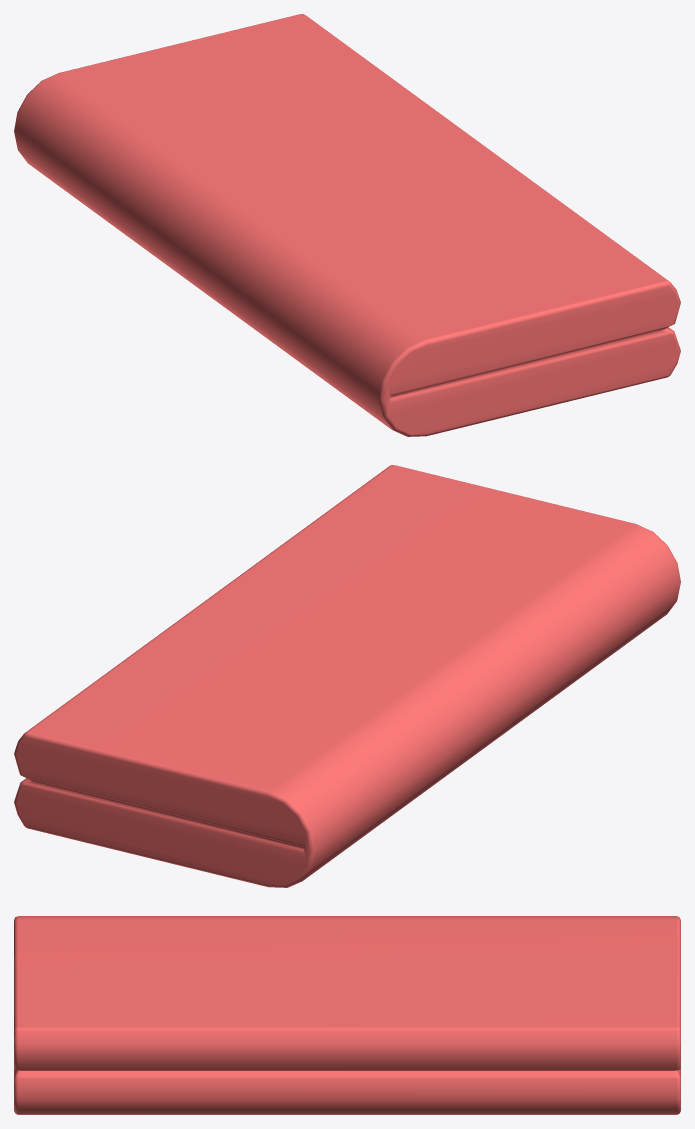
Rendered from Public_19_Fabric_6.glb.
3 views of the same model, one above another, from view 1: azimuth 30°, elevation 25°; view 2: azimuth 150°, elevation 25°; view 3: azimuth 270°, elevation 25° (orthographic). The views are drawn at different scales.
Visible parts, largest first — view 1: Public_19_Fabric_6; view 2: Public_19_Fabric_6; view 3: Public_19_Fabric_6.
Part boxes in pixels (bbox=[...]): Public_19_Fabric_6: bbox=[14, 14, 680, 436]; Public_19_Fabric_6: bbox=[14, 465, 680, 887]; Public_19_Fabric_6: bbox=[14, 916, 680, 1114].
Size of the model in its own units: 0.8101 by 0.2481 by 1.71.
1 material, 1 textured.
